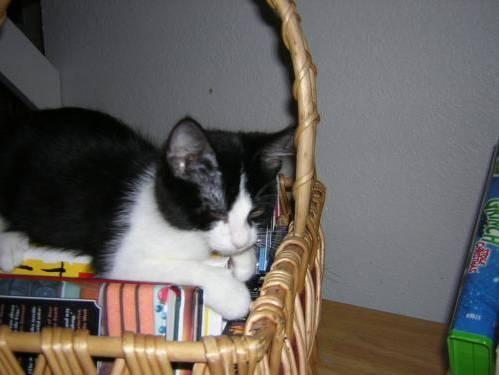cat: (1, 107, 294, 319)
